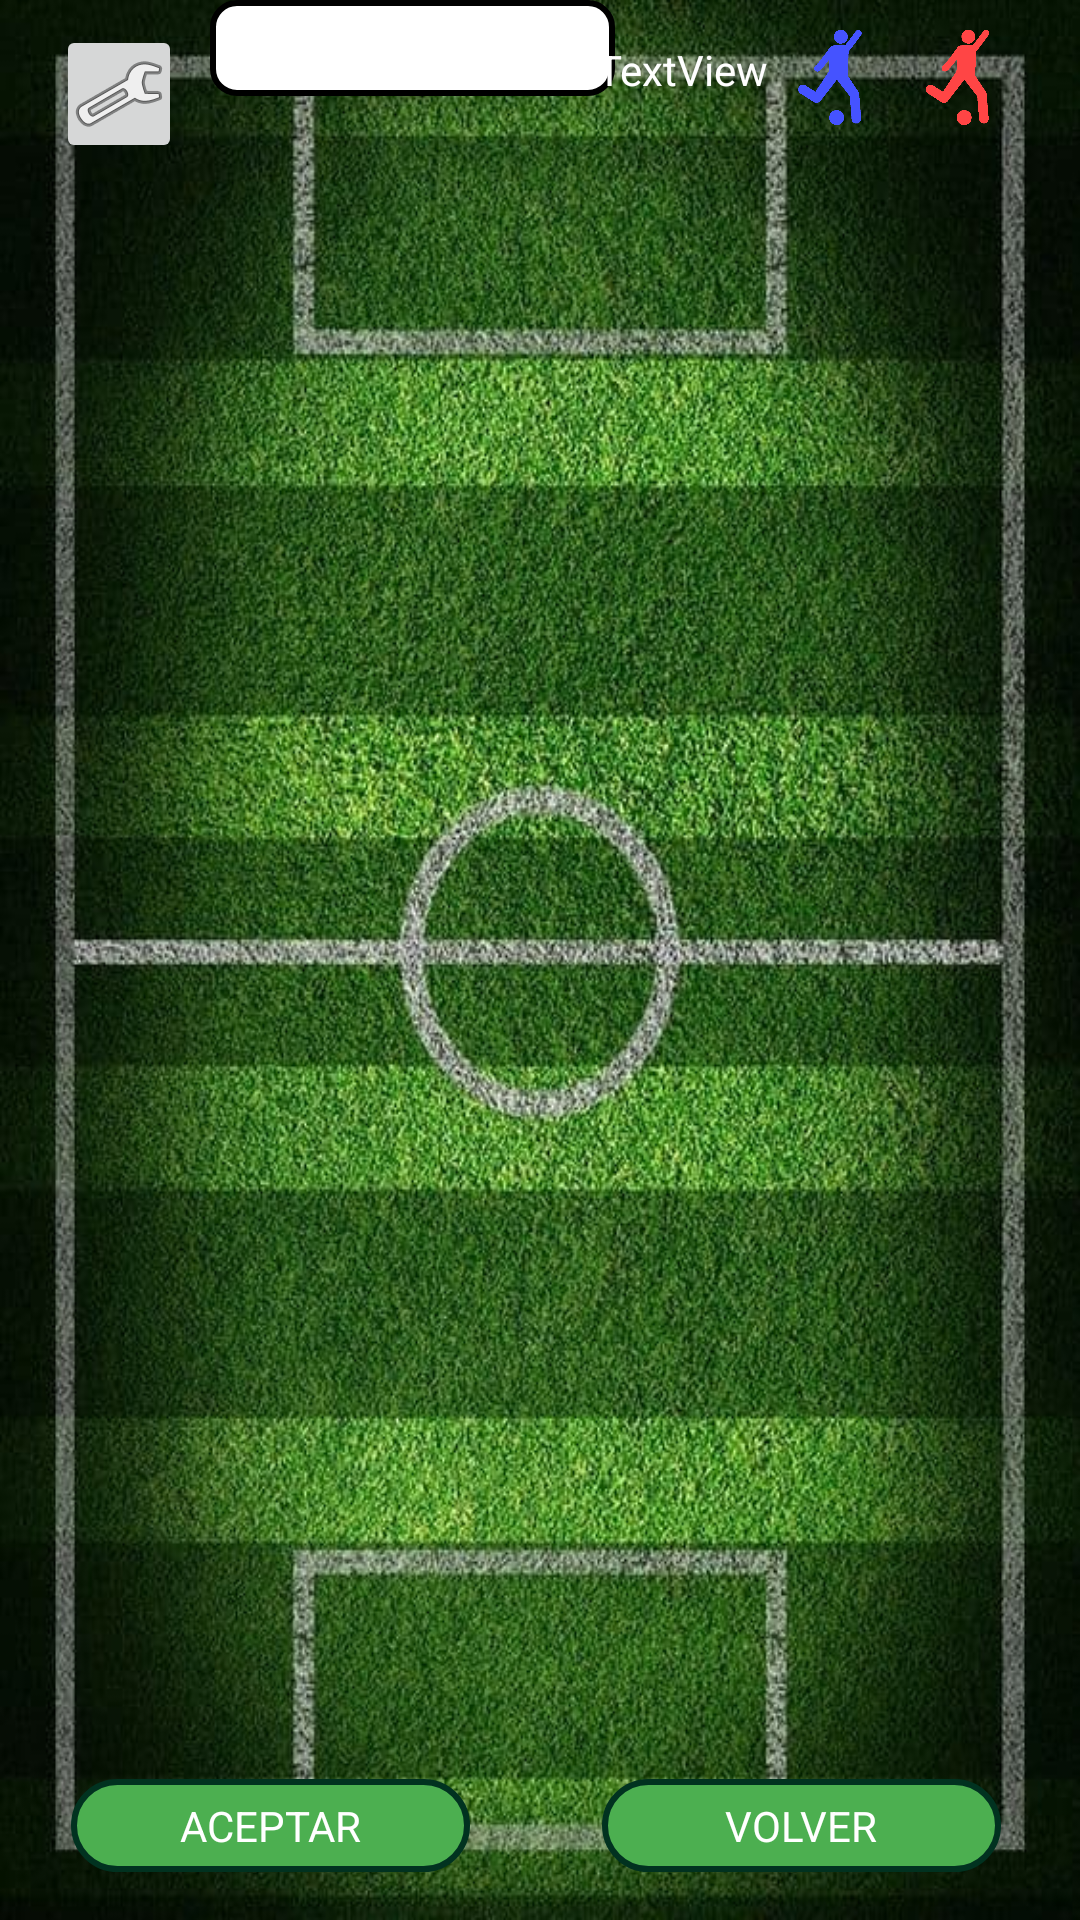

Screen size 1080px×1920px. Icon name, then its center in pixels as [x,y]:
preferences: [119,103]
